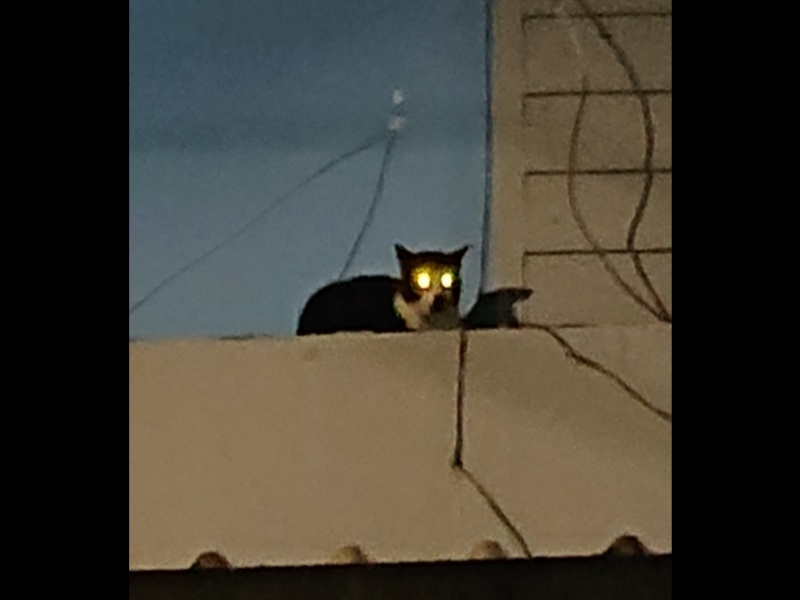cat: (286, 244, 467, 333)
